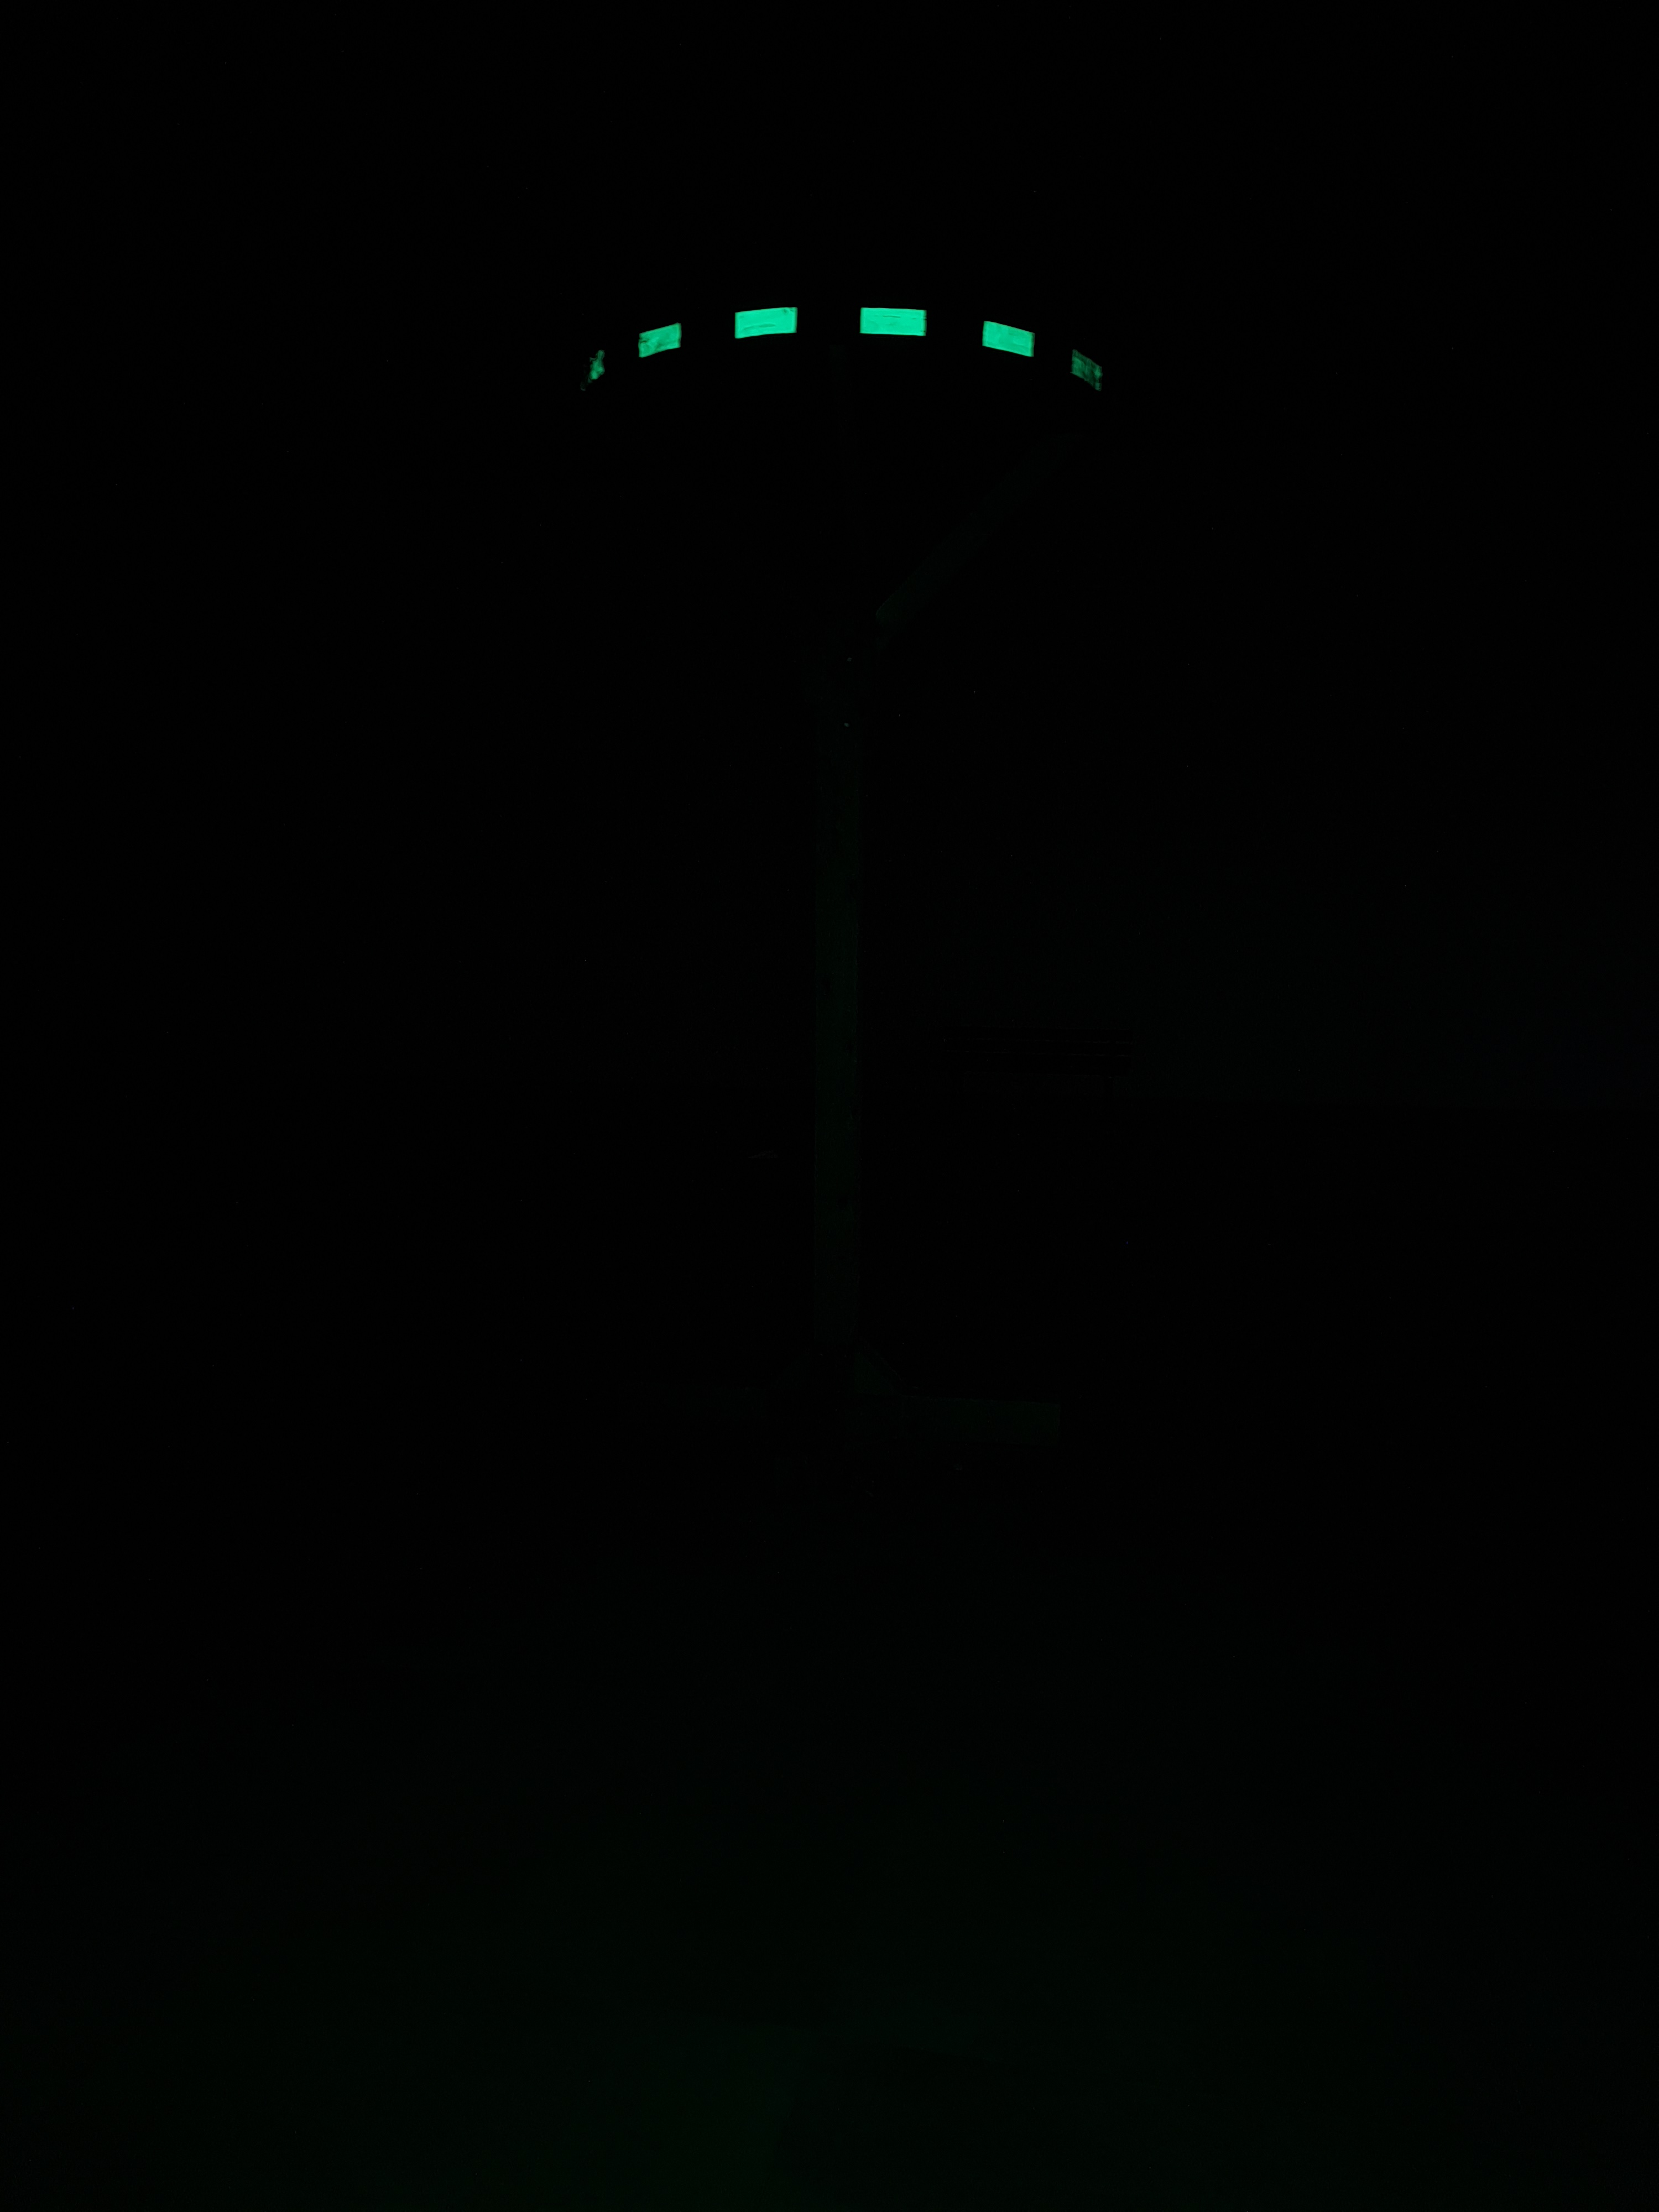hoop: (570, 296, 1110, 406)
